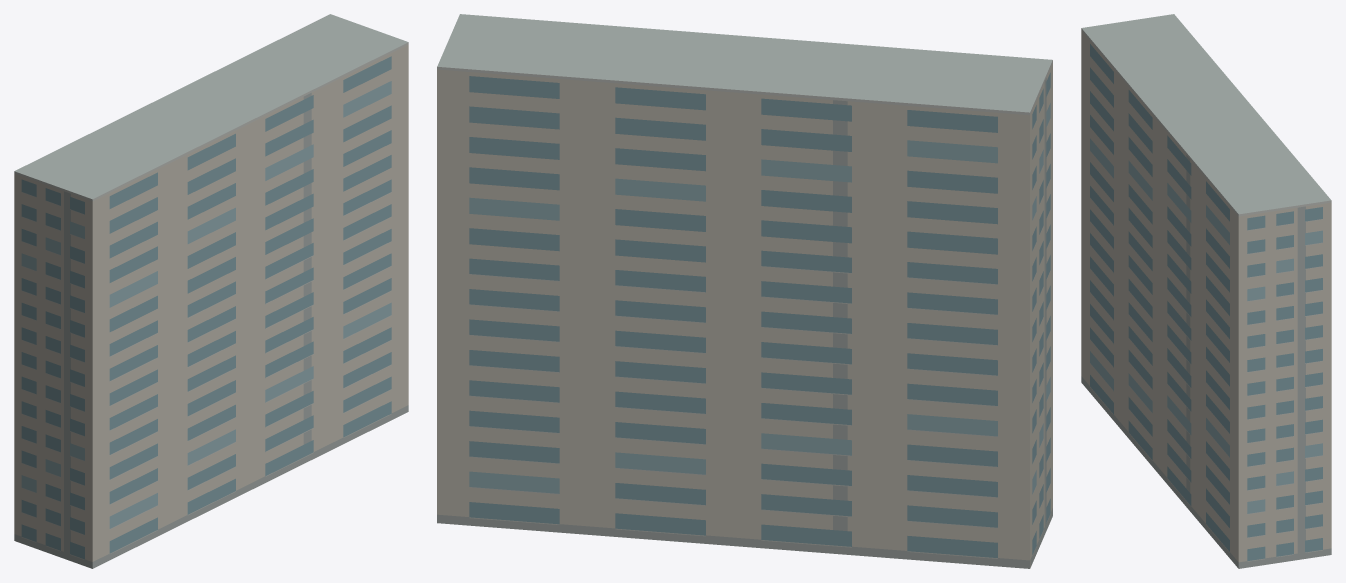
File: residential-222464cb-ea94-4d7d-9dcf-032181bdbe4d.glb
3 renders of one model, left to right at view 1: azimuth 30°, elevation 25°; view 2: azimuth 150°, elevation 25°; view 3: azimuth 270°, elevation 25°, orthographic. The views are drawn at different scales.
Visible parts, largest first — view 1: residential-222464cb-ea94-4d7d-9dcf-032181bdbe4d.tmp; view 2: residential-222464cb-ea94-4d7d-9dcf-032181bdbe4d.tmp; view 3: residential-222464cb-ea94-4d7d-9dcf-032181bdbe4d.tmp.
Boxes of the visible parts, left/top/right/bottom form: residential-222464cb-ea94-4d7d-9dcf-032181bdbe4d.tmp: left=14, top=14, right=408, bottom=568; residential-222464cb-ea94-4d7d-9dcf-032181bdbe4d.tmp: left=437, top=14, right=1052, bottom=568; residential-222464cb-ea94-4d7d-9dcf-032181bdbe4d.tmp: left=1081, top=14, right=1331, bottom=568.
Bounding box in the file's own units: 48.49 × 40 × 25.59.
